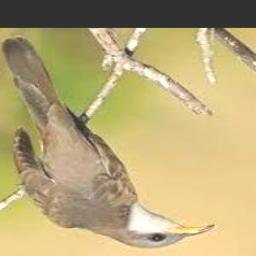Cuckoo: (0, 37, 214, 247)
